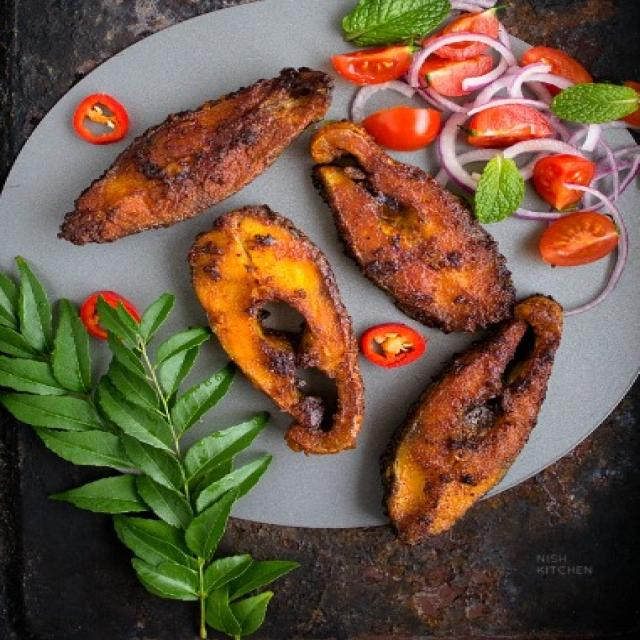FISH FRY: (59, 71, 324, 244), (307, 117, 512, 334), (190, 204, 367, 453), (389, 298, 558, 543)
